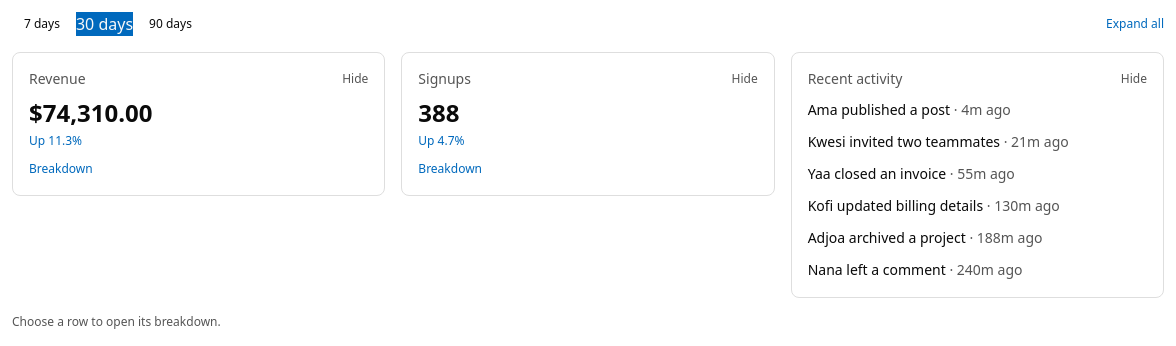
WidgetBoardComponent › with the sample widgets › collapses from the widget and expands from the board
The width and height of the screenshot is (1176, 346).
Expected: the button "Expand all" is disabled, [1106, 16, 1164, 32]
Click the button "Hide" in the row of "Revenue": (355, 79) [342, 71, 368, 87]
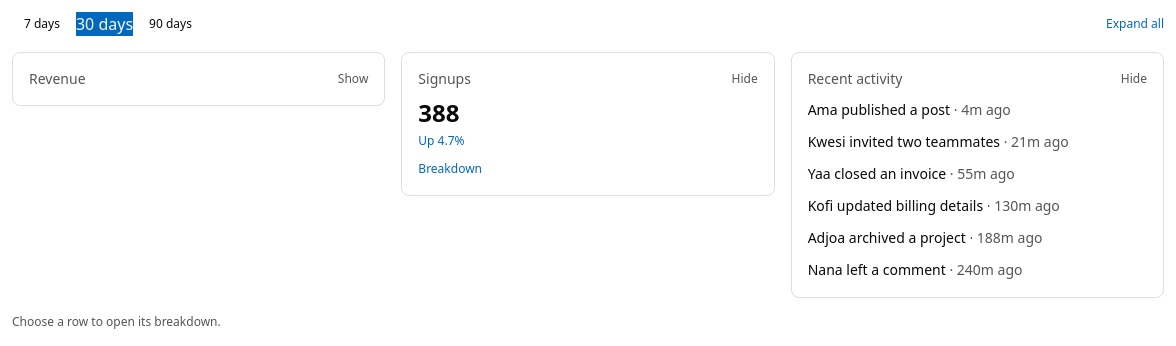
Click the button "Expand all": (1135, 24) [1106, 16, 1164, 32]
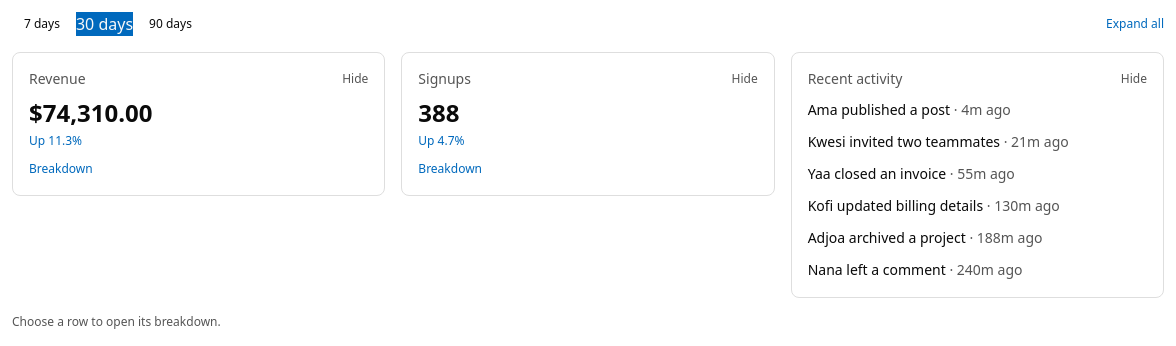
Result: the text "$74,310.00" is shown at [29, 96, 152, 129]
